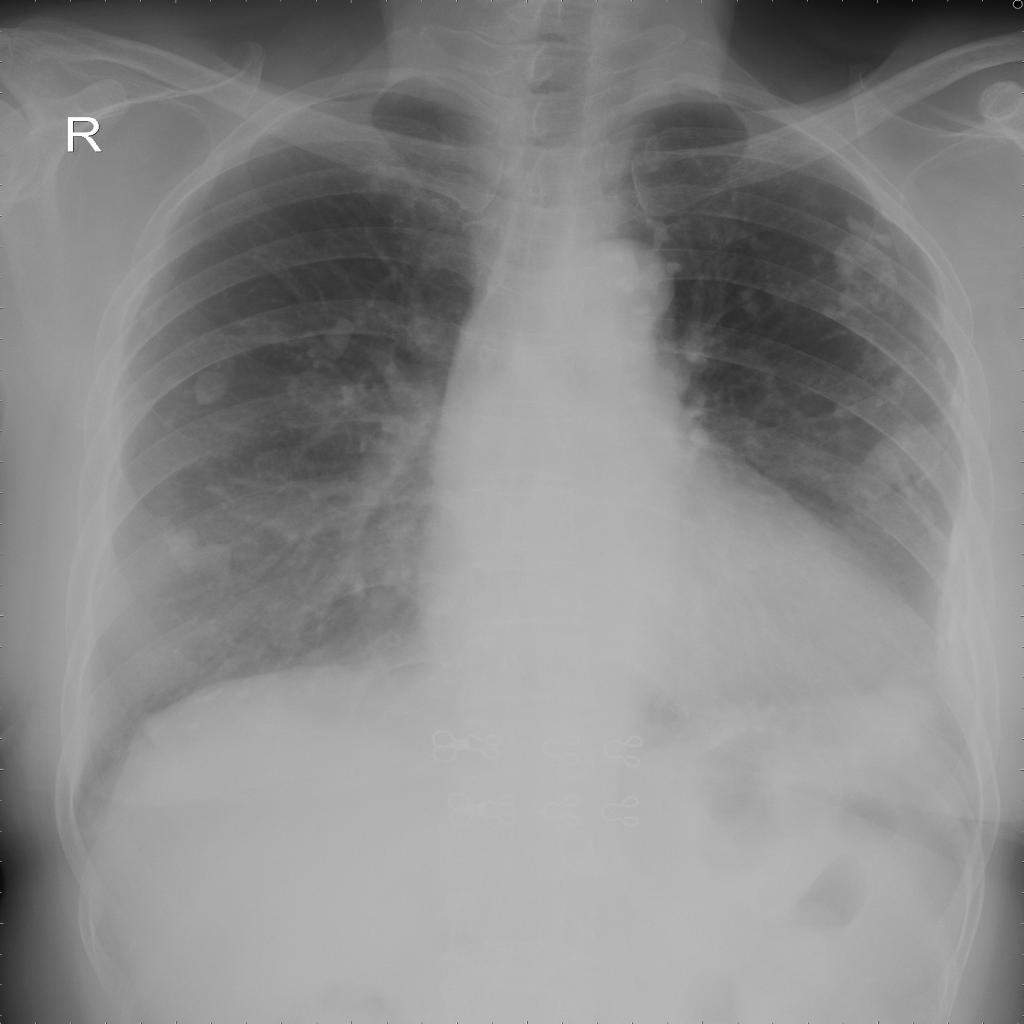Nodule: (159, 514, 237, 591), (305, 315, 366, 370), (613, 252, 662, 296), (182, 370, 233, 405), (643, 216, 673, 247), (633, 301, 653, 319), (667, 262, 686, 275)
